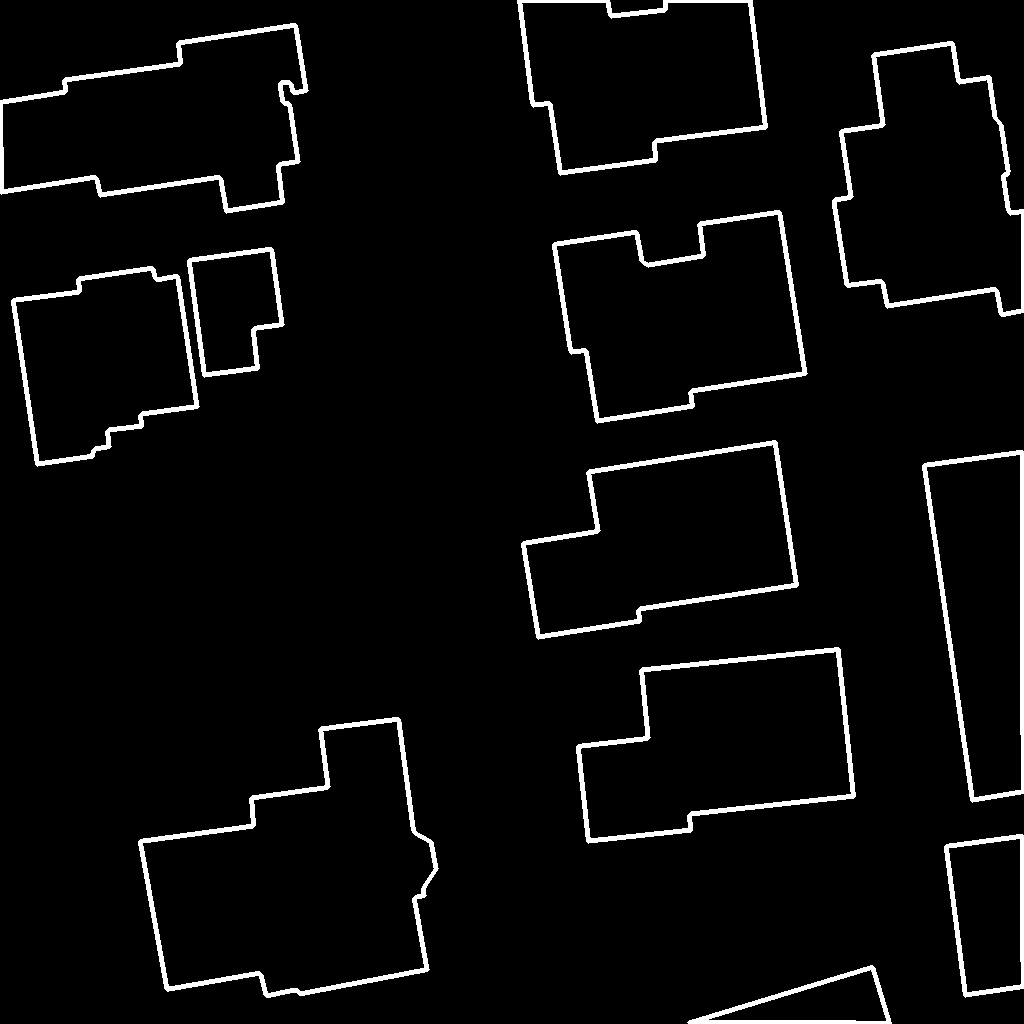building: (140, 719, 437, 997), (0, 25, 307, 212), (523, 442, 798, 638), (578, 649, 855, 842), (554, 212, 806, 422), (834, 43, 1024, 316), (519, 0, 767, 174), (13, 268, 198, 465), (924, 452, 1024, 801), (946, 836, 1024, 996), (189, 249, 283, 376), (688, 967, 891, 1024)
